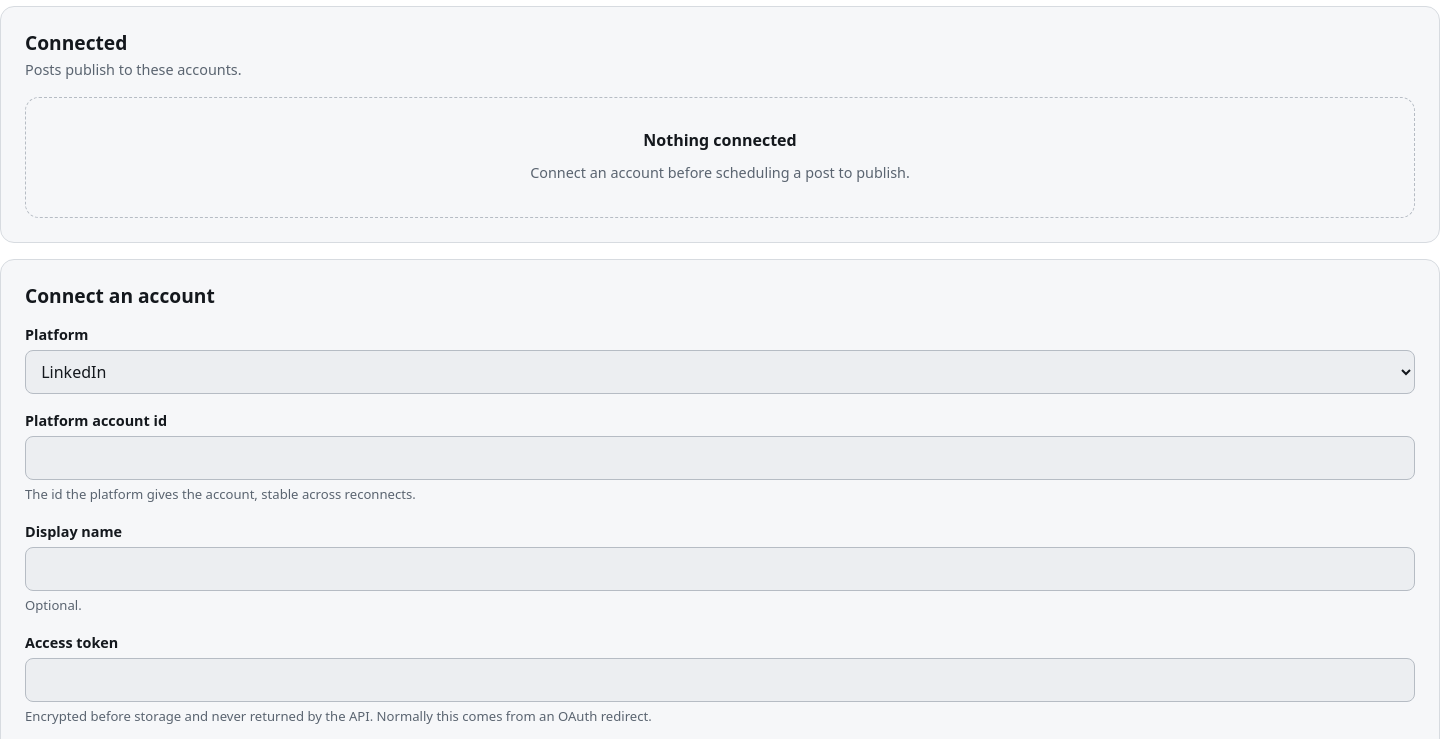
AccountsSettings › explains a duplicate connection rather than saying "conflict"
Type "ext-1" into the field labelled "Platform account id". click: [720, 458]
box: x1=25 y1=436 x2=1415 y2=480
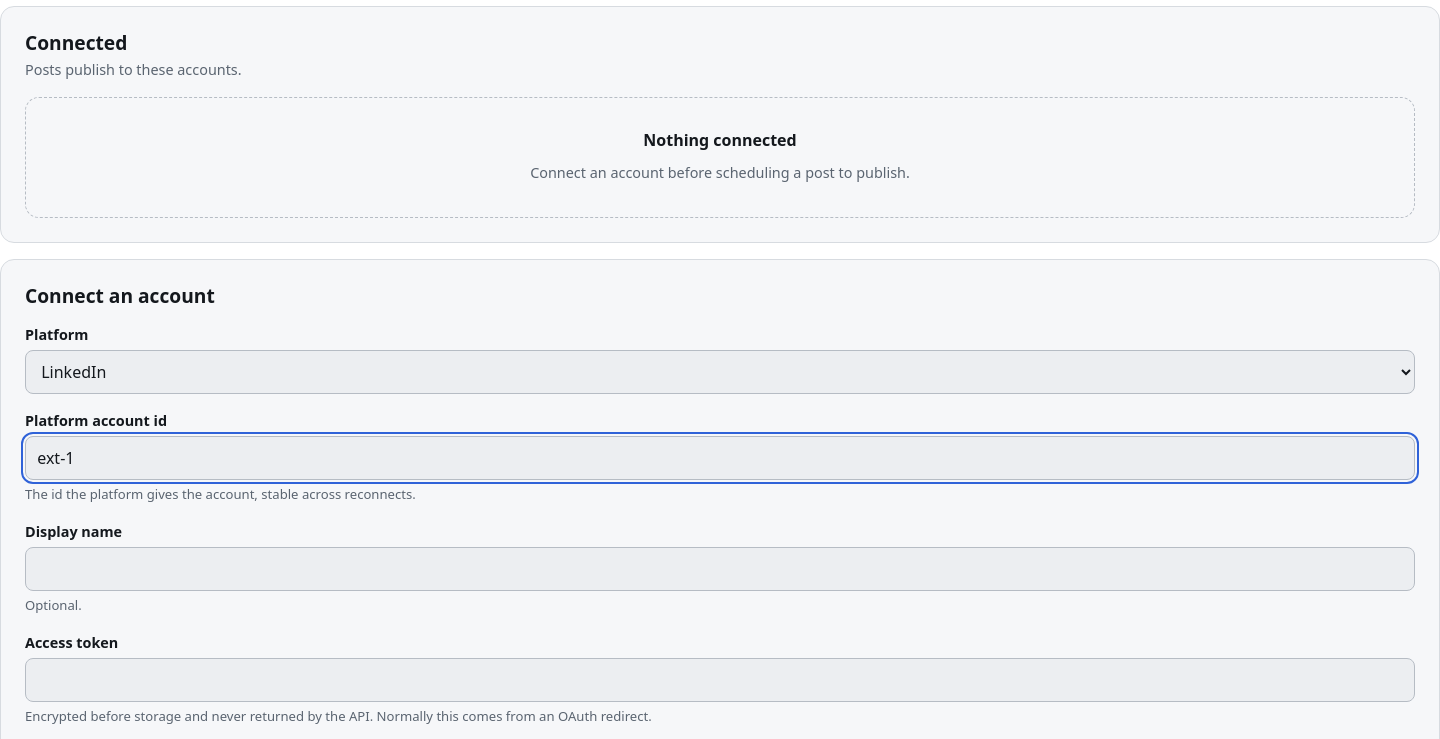
Type "ya29.secret" into the password field labelled "Access token". click: [720, 680]
box: x1=25 y1=658 x2=1415 y2=702
(page scrolled)
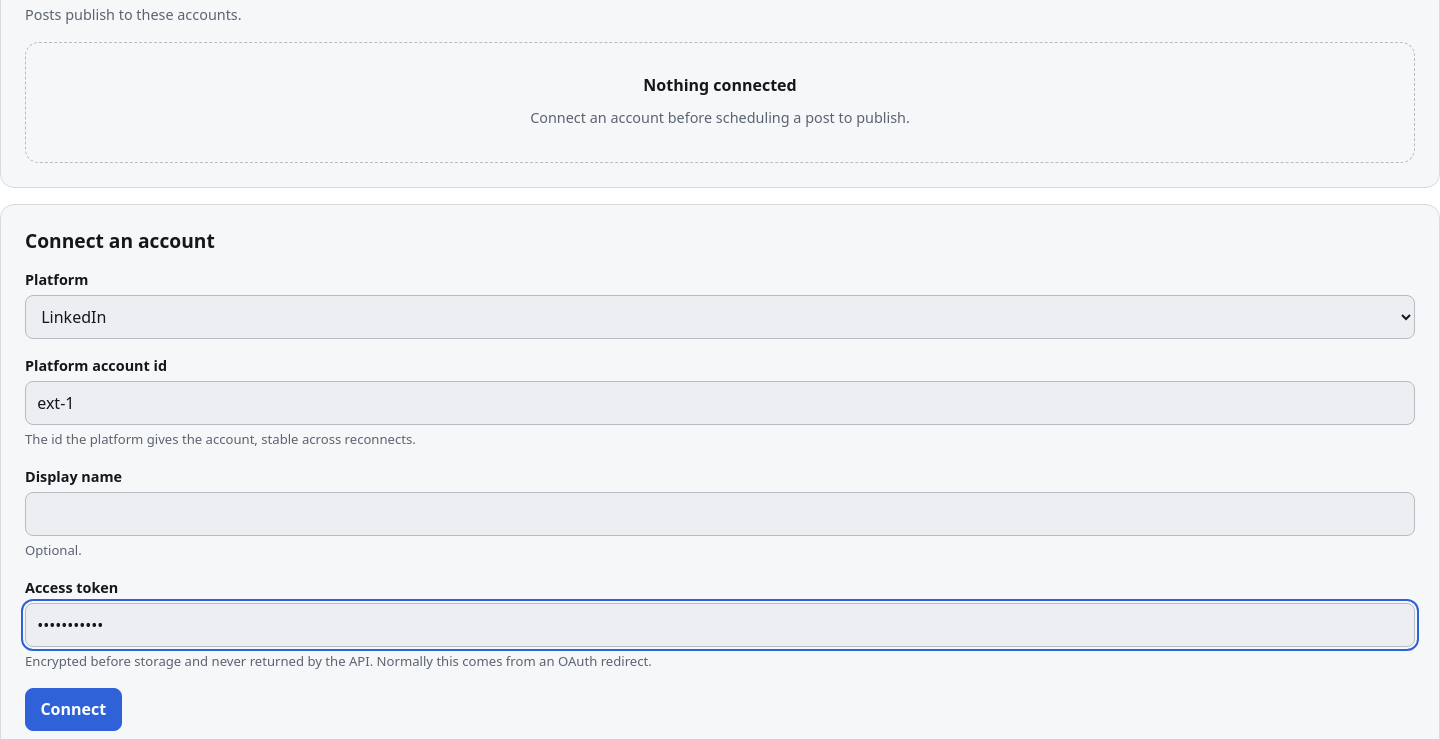
Click the button "Connect". click: [73, 709]
box: x1=25 y1=688 x2=122 y2=731
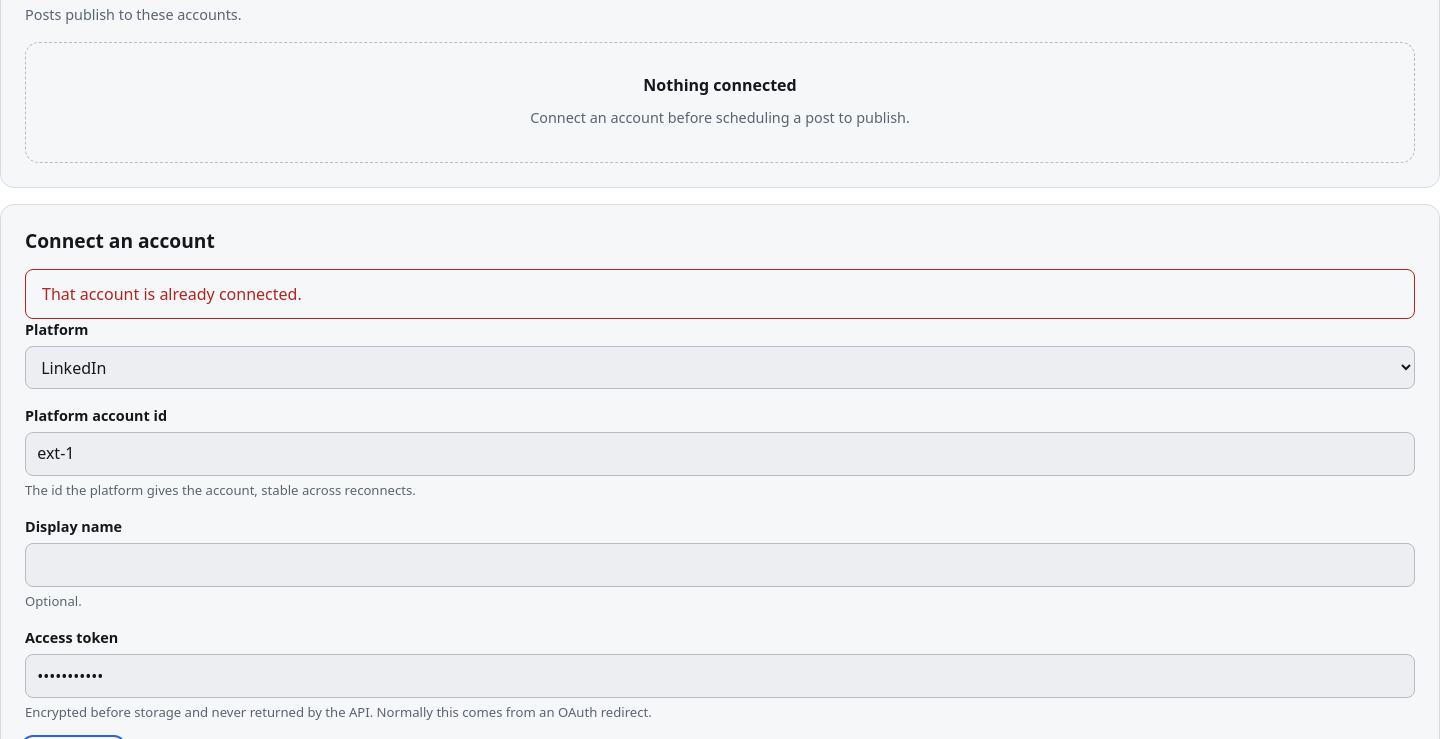
Now the text "That account is already connected." is shown, box x1=42 y1=282 x2=302 y2=306
